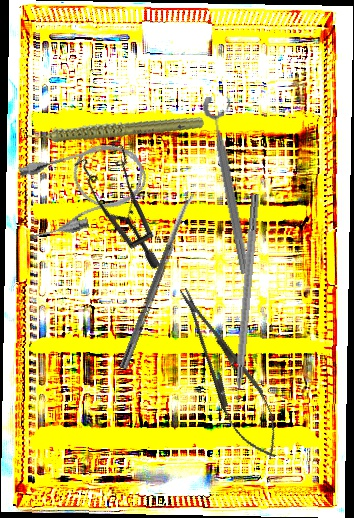Cannula: (9, 131, 156, 246)
Fixation Ring: (201, 92, 265, 276)
Handpiece: (20, 88, 205, 167)
Hook Surgical: (229, 193, 261, 426)
Needle Holder: (163, 277, 294, 469)
Speculum: (51, 125, 207, 272)
Surgical Spoon: (119, 190, 196, 371)
